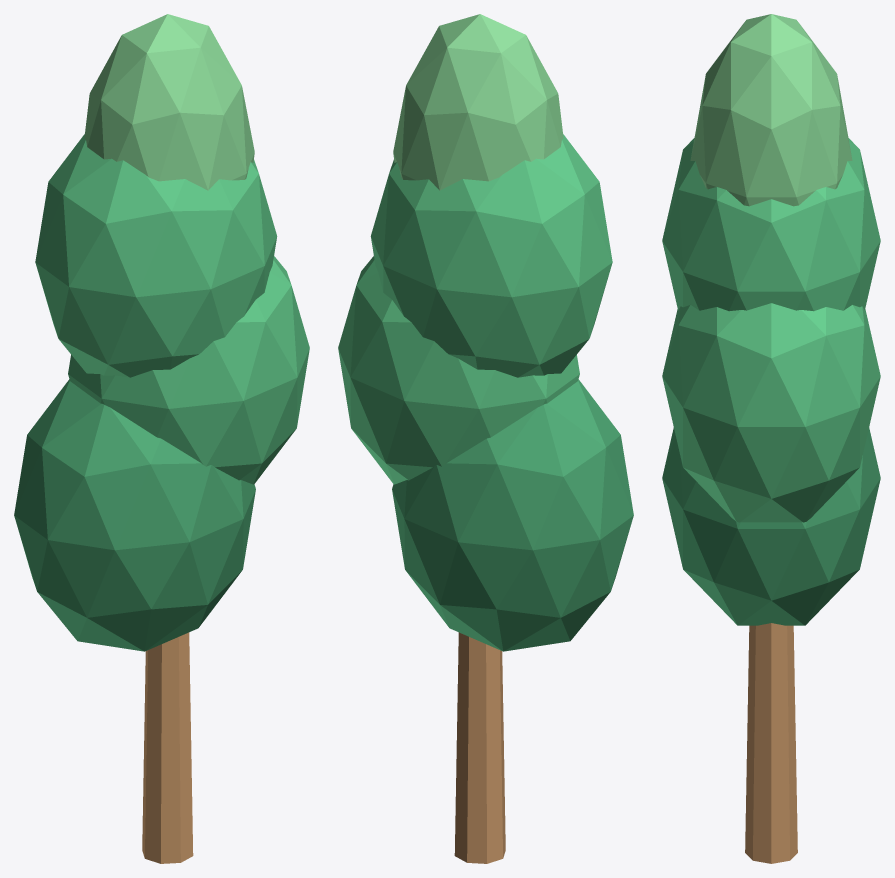
The model's file is tree_tall.glb.
The picture shows the model from 3 angles, left to right: view 1: azimuth 30°, elevation 25°; view 2: azimuth 150°, elevation 25°; view 3: azimuth 270°, elevation 25°; orthographic projection.
Parts seen in each view (by area): view 1: tree_tall__Crown tier, tree_tall__Crown tier.002, tree_tall__Crown tier.001, tree_tall__Crown tier.003, tree_tall__Trunk; view 2: tree_tall__Crown tier, tree_tall__Crown tier.002, tree_tall__Crown tier.001, tree_tall__Crown tier.003, tree_tall__Trunk; view 3: tree_tall__Crown tier.001, tree_tall__Crown tier.002, tree_tall__Crown tier.003, tree_tall__Crown tier, tree_tall__Trunk.
Part boxes in pixels (x1,y1,x2,y2): tree_tall__Crown tier: (14,379,255,651); tree_tall__Crown tier.002: (35,134,277,377); tree_tall__Crown tier.001: (68,256,309,484); tree_tall__Crown tier.003: (84,14,254,190); tree_tall__Trunk: (142,632,193,863); tree_tall__Crown tier: (392,379,633,651); tree_tall__Crown tier.002: (370,134,612,377); tree_tall__Crown tier.001: (338,256,579,484); tree_tall__Crown tier.003: (393,14,563,190); tree_tall__Trunk: (454,632,505,863); tree_tall__Crown tier.001: (662,303,880,522); tree_tall__Crown tier.002: (662,138,880,311); tree_tall__Crown tier.003: (690,14,852,206); tree_tall__Crown tier: (662,427,880,625); tree_tall__Trunk: (745,623,797,863).
Size of the model in its own units: 0.3209 by 0.982 by 0.232.
